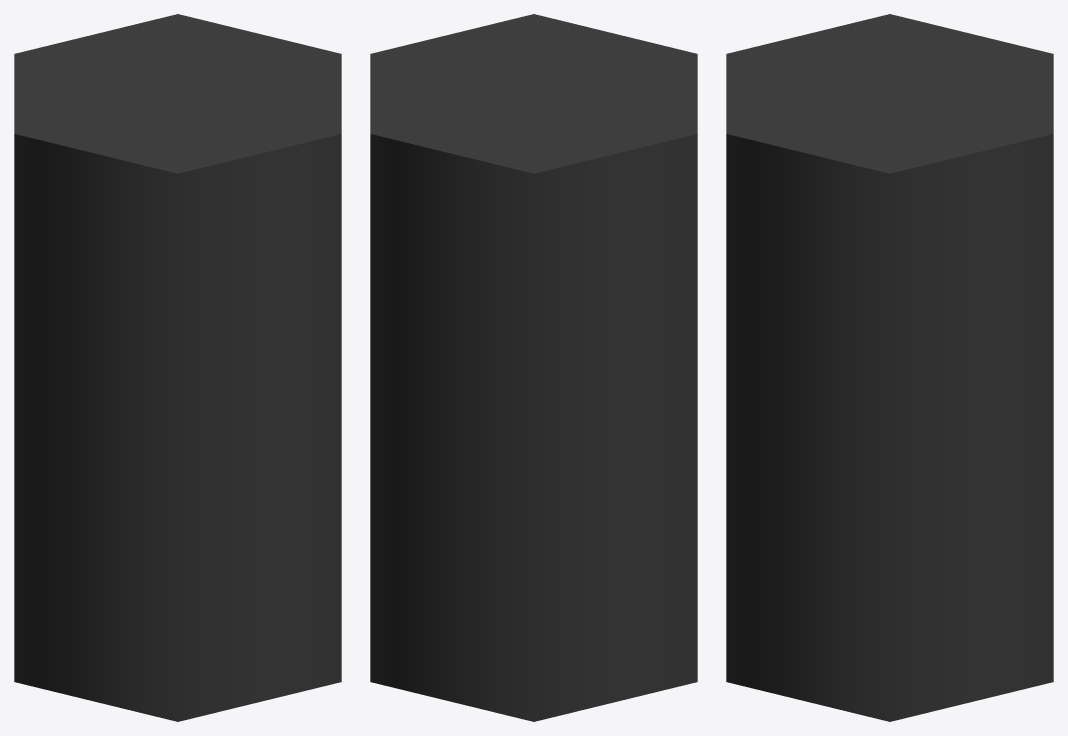
The model's file is Castle_Block_E_02.FBX.
3 views of the same model, side by side, from view 1: azimuth 30°, elevation 25°; view 2: azimuth 150°, elevation 25°; view 3: azimuth 270°, elevation 25° (orthographic).
Visible parts, largest first — view 1: Castle_block_E_02; view 2: Castle_block_E_02; view 3: Castle_block_E_02.
Part boxes in pixels (x1,y1,x2,y2): Castle_block_E_02: (14,14,341,721); Castle_block_E_02: (370,14,697,721); Castle_block_E_02: (726,14,1053,721).
Bounding box in the file's own units: 21.88 × 35 × 18.95.
